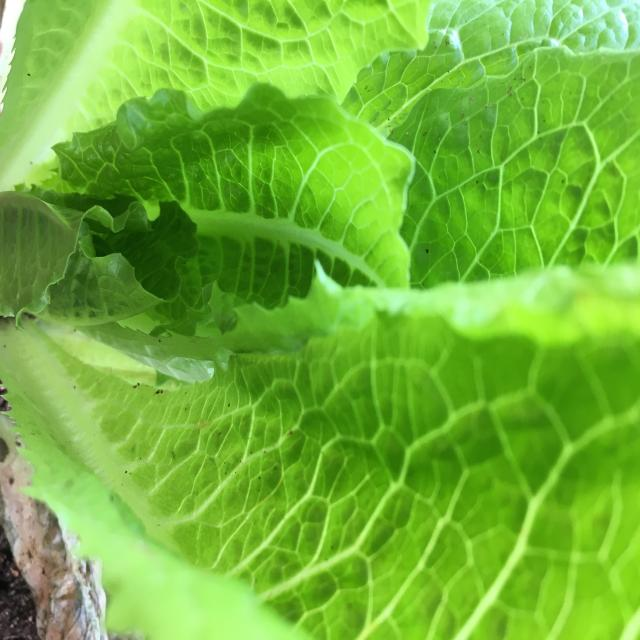Healthy Lettuce: (3, 4, 636, 634), (45, 80, 418, 326)
